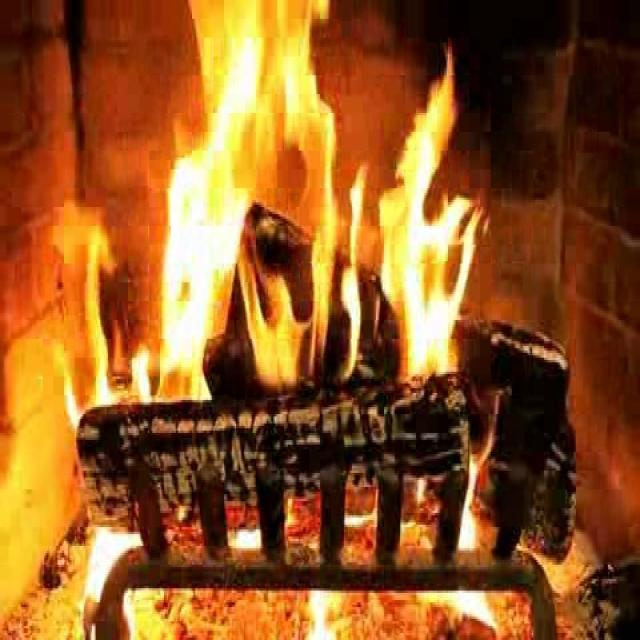Fire: (131, 0, 472, 428)
